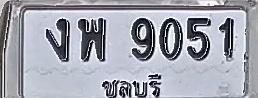0: (159, 17, 182, 60)
1: (219, 17, 234, 61)
5: (187, 16, 210, 60)
9: (131, 17, 155, 61)
A07: (46, 18, 70, 62)
A30: (78, 17, 106, 62)
CBI: (97, 73, 168, 98)
